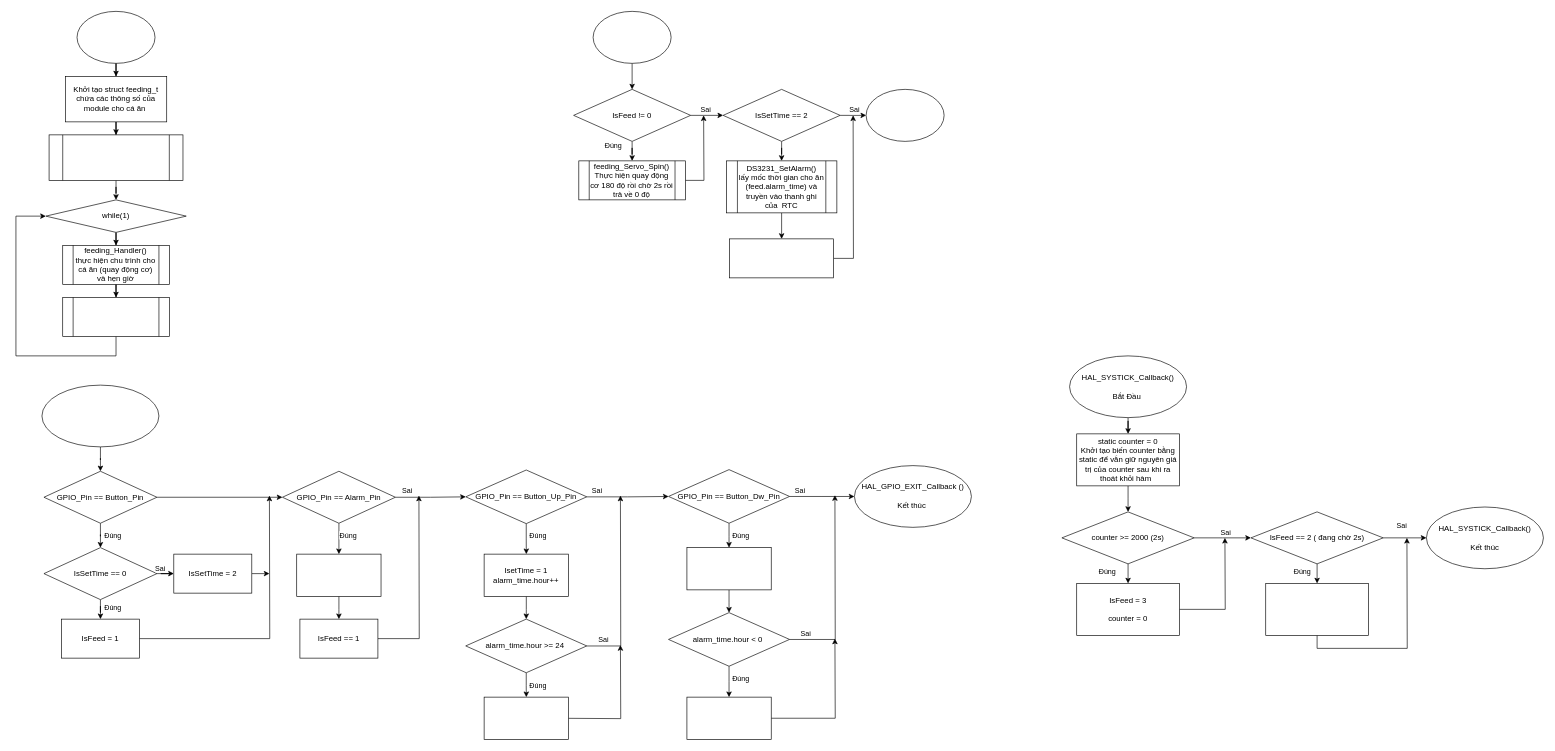
The diagram is 1555 pixels wide and 751 high, and some of its shapes have lost their labels. Each missing label, with the centre of its shape:
"alarm_time.hour = 0" belongs at [525,717].
"alarm_time.hour = 23" belongs at [728,717].
"Bắt đầu" belongs at [115,37].
"counter ++" belongs at [1316,609].
"DS3231_GetTime() Đọc thời gian từ thanh ghi của RTC" belongs at [115,316].
"feeding_Handler() Bắt Đầu" belongs at [631,37].
"feeding_Handler() Kết thúc" belongs at [904,115].
"feeding_Init() Khởi tạo hệ thống (RTC DS3231, PWM Servo, Góc Servo=0 độ)" belongs at [115,157].
"HAL_GPIO_EXIT_Callback () Bắt Đầu" belongs at [100,415].
"IsetTime = 1 alarm_time.hour--" belongs at [728,568].
"IsSetTime == 0 Xóa cờ hẹn giờ (2)" belongs at [781,258].
"Đặt lại thanh ghi hẹn giờ" belongs at [338,574].
